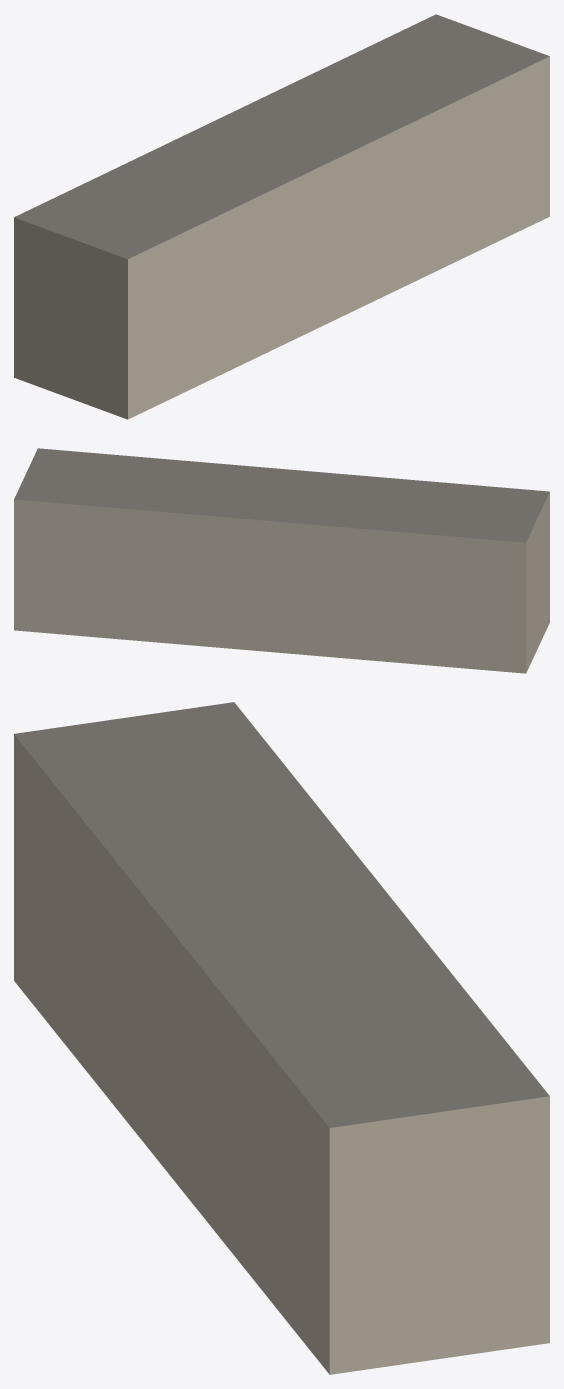
The picture shows the model from 3 angles, top to bottom: view 1: azimuth 30°, elevation 25°; view 2: azimuth 150°, elevation 25°; view 3: azimuth 270°, elevation 25°; orthographic projection. The views are drawn at different scales.
Visible parts, largest first — view 1: HP-w1286957251; view 2: HP-w1286957251; view 3: HP-w1286957251.
Part boxes in pixels (x1,y1,x2,y2): HP-w1286957251: [14, 14, 549, 419]; HP-w1286957251: [14, 448, 549, 673]; HP-w1286957251: [14, 702, 549, 1374].
Bounding box in the file's own units: 66.61 × 18 × 35.42.
